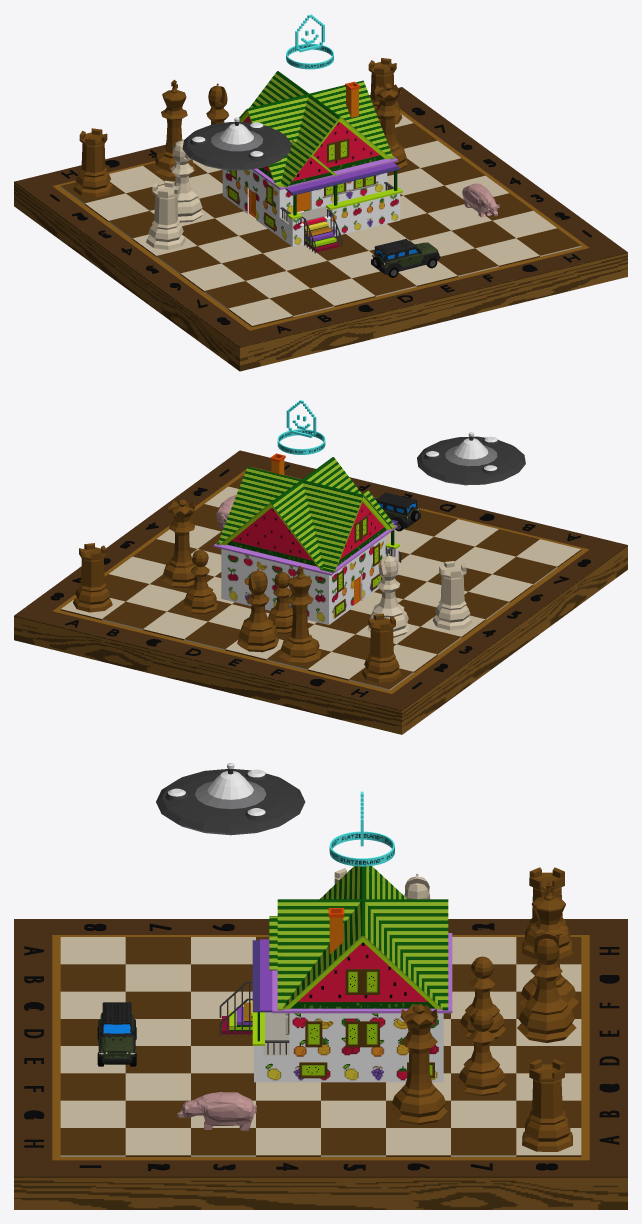
3 renders of one model, top to bottom at view 1: azimuth 30°, elevation 25°; view 2: azimuth 150°, elevation 25°; view 3: azimuth 270°, elevation 25°, orthographic. The views are drawn at different scales.
Visible parts, largest first — view 1: Cube.002, Cube.1063, OBJRANDOM_UFO, VEHICLES_JEEP, TYPE_PREMIUM, ANIMAL_HIPOPOTAMO; view 2: Cube.002, Cube.1063, OBJRANDOM_UFO, VEHICLES_JEEP, TYPE_PREMIUM; view 3: Cube.002, Cube.1063, OBJRANDOM_UFO, VEHICLES_JEEP, ANIMAL_HIPOPOTAMO, TYPE_PREMIUM.
Boxes of the visible parts, bbox=[...] form: Cube.002: bbox=[14, 58, 627, 371]; Cube.1063: bbox=[222, 71, 402, 253]; OBJRANDOM_UFO: bbox=[182, 117, 291, 170]; VEHICLES_JEEP: bbox=[371, 238, 440, 277]; TYPE_PREMIUM: bbox=[286, 14, 333, 69]; ANIMAL_HIPOPOTAMO: bbox=[462, 183, 499, 217]; Cube.002: bbox=[14, 450, 627, 734]; Cube.1063: bbox=[213, 453, 401, 624]; OBJRANDOM_UFO: bbox=[417, 432, 525, 485]; VEHICLES_JEEP: bbox=[374, 492, 420, 531]; TYPE_PREMIUM: bbox=[277, 400, 325, 454]; Cube.002: bbox=[14, 867, 627, 1209]; Cube.1063: bbox=[219, 866, 452, 1082]; OBJRANDOM_UFO: bbox=[156, 763, 305, 835]; VEHICLES_JEEP: bbox=[97, 1002, 136, 1066]; ANIMAL_HIPOPOTAMO: bbox=[177, 1092, 256, 1131]; TYPE_PREMIUM: bbox=[329, 791, 394, 866].
Bounding box in the file's own units: 3981 × 2128 × 4012.
34 materials, 6 textured.
